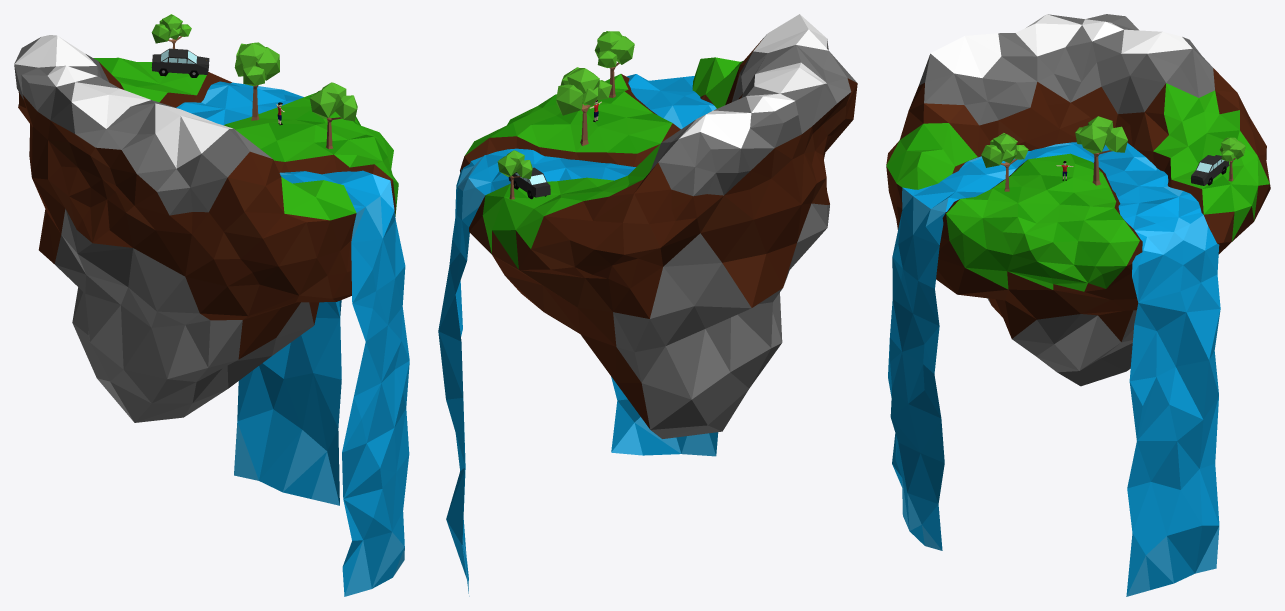
File: island-2.glb
3 renders of one model, left to right at view 1: azimuth 30°, elevation 25°; view 2: azimuth 150°, elevation 25°; view 3: azimuth 270°, elevation 25°, orthographic. The views are drawn at different scales.
Visible parts, largest first — view 1: Island, Water, tree2, tree1, Car, tree3; view 2: Island, Water, tree2, tree1, tree3, Car; view 3: Island, Water, tree2, tree1, Car, tree3.
Boxes of the visible parts, bbox=[...] form: Island: bbox=[14, 35, 398, 422]; Water: bbox=[176, 81, 409, 596]; tree2: bbox=[234, 42, 279, 120]; tree1: bbox=[309, 82, 357, 149]; Car: bbox=[151, 48, 209, 77]; tree3: bbox=[151, 14, 191, 48]; Island: bbox=[460, 14, 857, 438]; Water: bbox=[438, 74, 718, 596]; tree2: bbox=[556, 67, 611, 146]; tree1: bbox=[594, 31, 634, 97]; tree3: bbox=[497, 150, 532, 199]; Car: bbox=[508, 167, 550, 199]; Island: bbox=[886, 14, 1270, 386]; Water: bbox=[888, 142, 1220, 596]; tree2: bbox=[1075, 116, 1127, 185]; tree1: bbox=[981, 133, 1028, 191]; Car: bbox=[1191, 155, 1229, 185]; tree3: bbox=[1220, 137, 1245, 181].
Size of the model in its own units: 3.38 by 5.07 by 3.89.
Materials: 5 (5 with a texture image).
